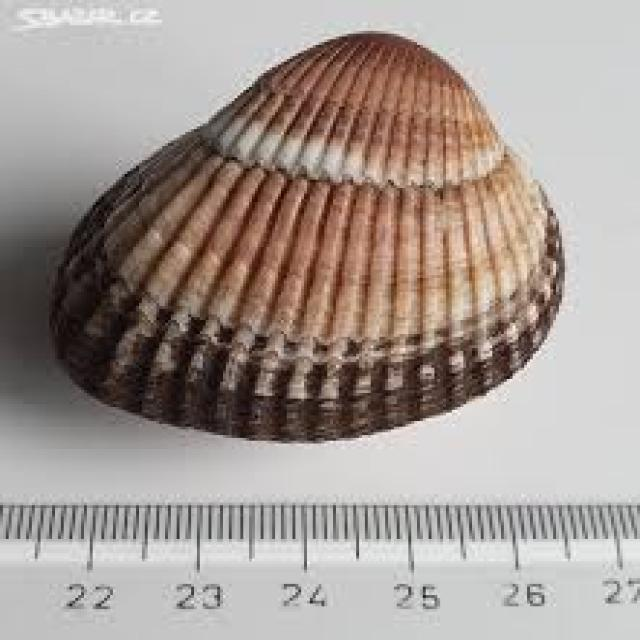Anadara_kagoshimensis: (52, 33, 569, 449)
